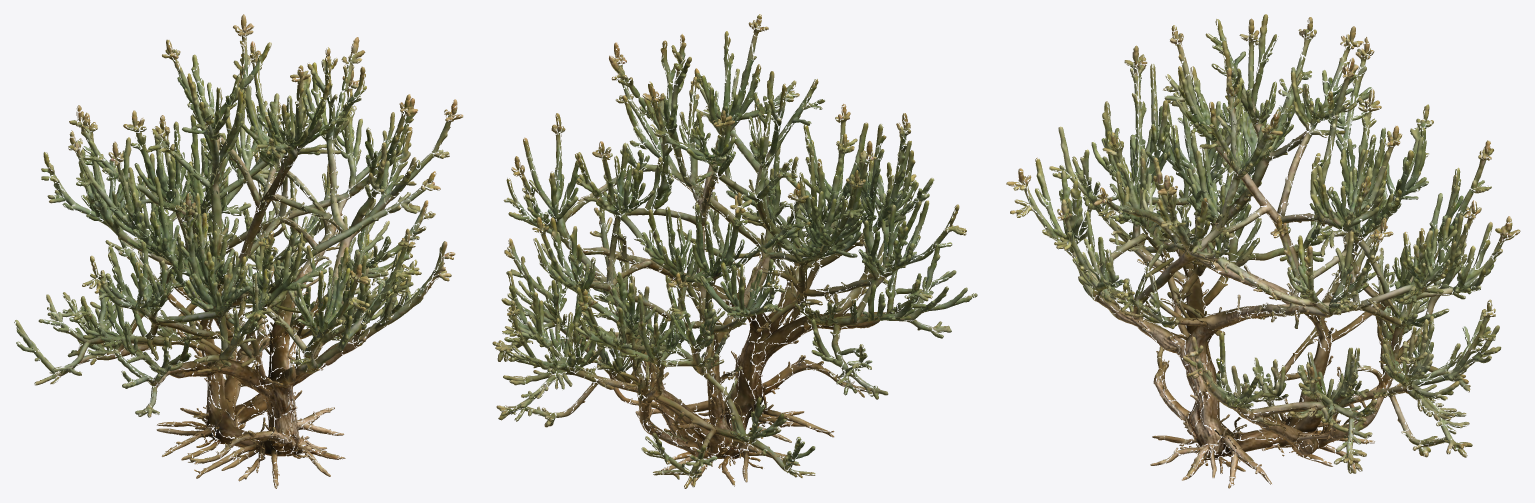
The model's file is sarh.glb.
The picture shows the model from 3 angles, left to right: view 1: azimuth 30°, elevation 25°; view 2: azimuth 150°, elevation 25°; view 3: azimuth 270°, elevation 25°; orthographic projection. The views are drawn at different scales.
Visible parts, largest first — view 1: tripo_node_6ee090ab-ac03-4cce-ab04-b64eee62f079; view 2: tripo_node_6ee090ab-ac03-4cce-ab04-b64eee62f079; view 3: tripo_node_6ee090ab-ac03-4cce-ab04-b64eee62f079.
Boxes of the visible parts, box(x1,y1,x2,y2) form: tripo_node_6ee090ab-ac03-4cce-ab04-b64eee62f079: box(14, 14, 463, 488); tripo_node_6ee090ab-ac03-4cce-ab04-b64eee62f079: box(492, 14, 977, 488); tripo_node_6ee090ab-ac03-4cce-ab04-b64eee62f079: box(1006, 14, 1520, 488).
Size of the model in its own units: 0.9592 by 0.9135 by 0.9827.
1 material, 1 textured.
